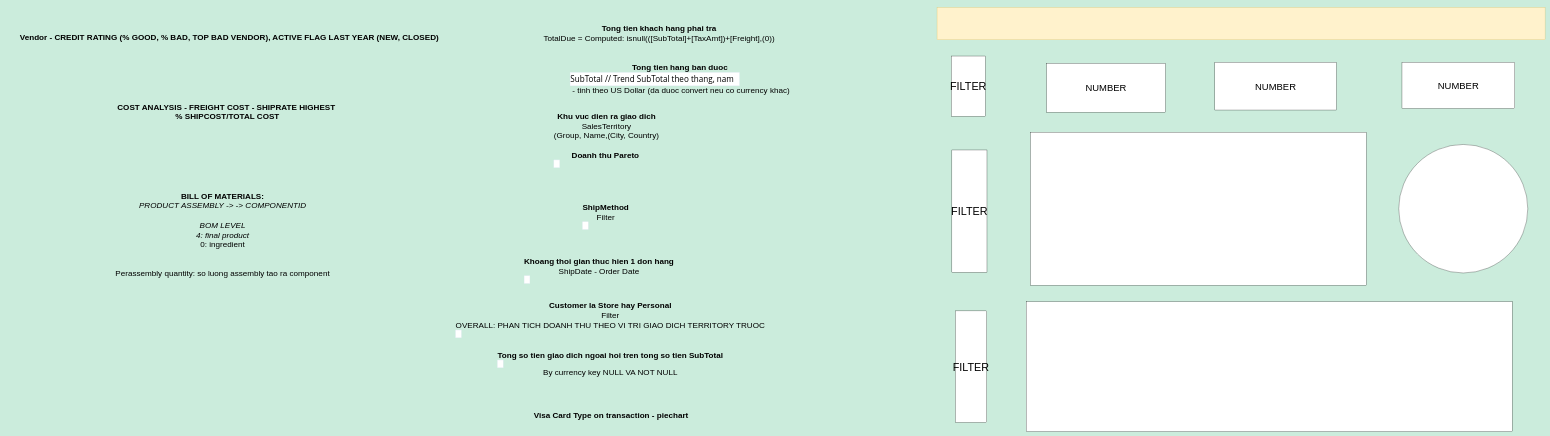
This 1550x436 diagram has some shape labels left out. Here are the shapes that lost their labels. From the top down, the centre of each, then its label:
At (1241,23): "context".
At (1198,208): "Text".
